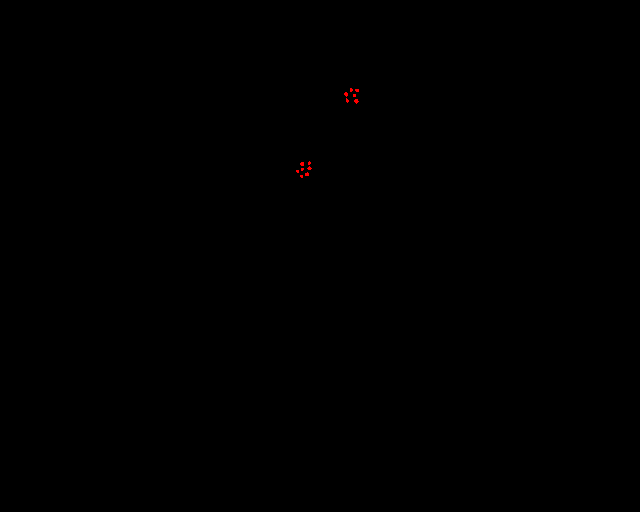Target: (354, 99, 359, 104), (344, 92, 348, 97), (307, 166, 312, 170), (300, 162, 304, 166), (305, 172, 309, 176), (346, 98, 349, 103), (350, 88, 353, 92), (355, 89, 359, 92), (308, 161, 311, 165), (353, 94, 356, 97), (301, 168, 304, 171), (296, 170, 299, 173), (300, 175, 303, 178)
